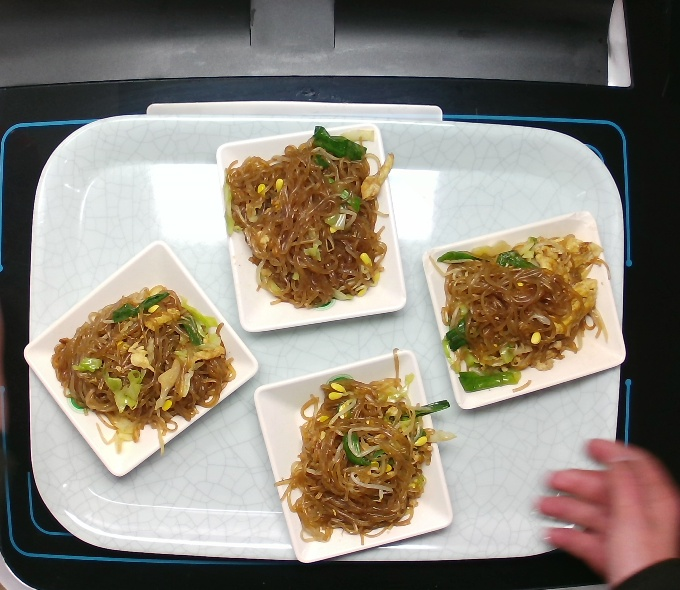wcq-FenSiChaoDan: (273, 341, 453, 547), (48, 279, 241, 459), (221, 121, 401, 314), (426, 226, 614, 397)
